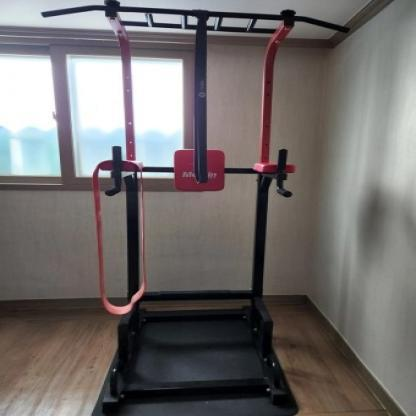chinning dipping: (38, 0, 349, 414)
